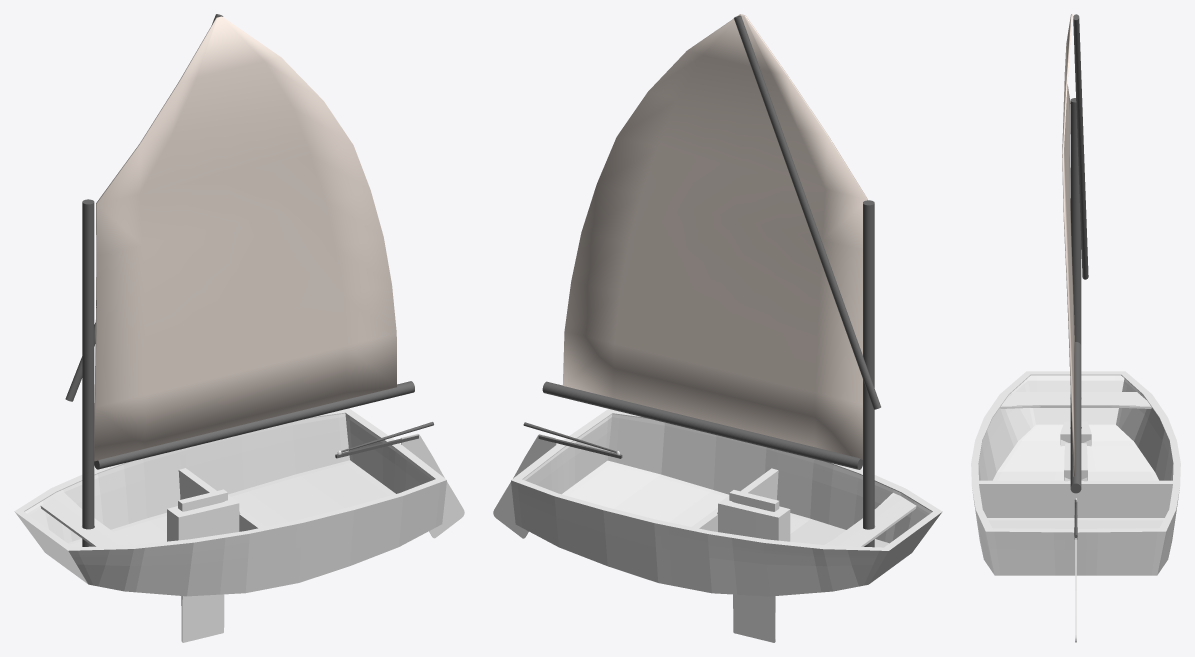
The picture shows the model from 3 angles, left to right: view 1: azimuth 30°, elevation 25°; view 2: azimuth 150°, elevation 25°; view 3: azimuth 270°, elevation 25°; orthographic projection. The views are drawn at different scales.
Visible parts, largest first — view 1: sail, body, must, boom, centerboard, rudder; view 2: sail, body, boom, must, split, centerboard, rudder; view 3: body, sail, must, split, boom.
Part boxes in pixels (bbox=[...]): sail: bbox=[94, 16, 396, 461]; body: bbox=[14, 408, 446, 596]; must: bbox=[82, 199, 94, 546]; boom: bbox=[94, 381, 414, 469]; centerboard: bbox=[178, 489, 227, 642]; rudder: bbox=[401, 433, 464, 538]; sail: bbox=[562, 14, 867, 459]; body: bbox=[511, 409, 942, 596]; boom: bbox=[542, 381, 862, 469]; must: bbox=[863, 200, 874, 547]; split: bbox=[734, 15, 880, 409]; centerboard: bbox=[729, 490, 779, 642]; rudder: bbox=[493, 434, 556, 538]; body: bbox=[971, 371, 1180, 575]; sail: bbox=[1062, 14, 1074, 476]; must: bbox=[1070, 98, 1081, 344]; split: bbox=[1073, 14, 1088, 279]; boom: bbox=[1070, 342, 1081, 493].
Bounding box in the file's own units: 12.36 × 17.3 × 5.77.
